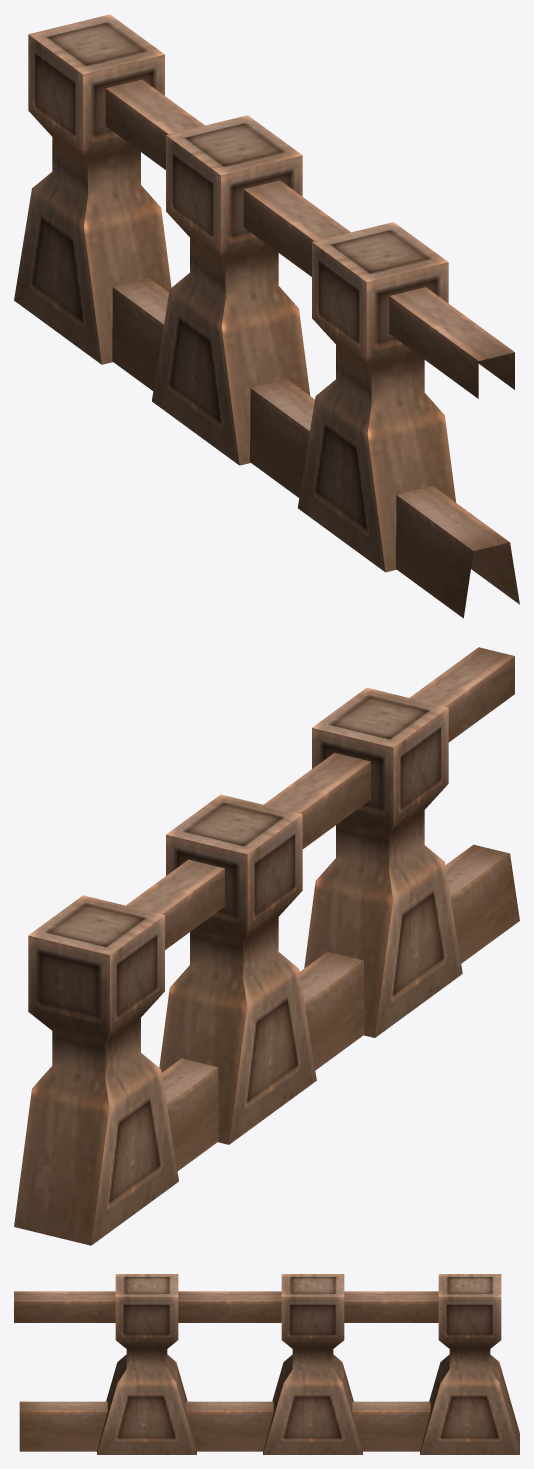
File: FB_ChengZhenMuqiao_Mutou.FBX
3 views of the same model, one above another, from view 1: azimuth 30°, elevation 25°; view 2: azimuth 150°, elevation 25°; view 3: azimuth 270°, elevation 25° (orthographic). The views are drawn at different scales.
Parts seen in each view (by area): view 1: Object02, Object03, Object04, Object11, Object10, Object07, Object06, Object09, Object08; view 2: Object04, Object03, Object02, Object11, Object07, Object06, Object10, Object09, Object08; view 3: Object04, Object02, Object03, Object11, Object07, Object09, Object06, Object10, Object08.
Boxes of the visible parts, x1,y1,x2,y2 form: Object02: [152, 115, 310, 465]; Object03: [297, 222, 456, 572]; Object04: [14, 14, 171, 364]; Object11: [396, 486, 519, 618]; Object10: [389, 287, 514, 398]; Object07: [250, 379, 314, 497]; Object06: [243, 180, 350, 276]; Object09: [112, 278, 168, 390]; Object08: [105, 79, 204, 169]; Object04: [14, 895, 178, 1245]; Object03: [304, 687, 462, 1037]; Object02: [159, 794, 316, 1144]; Object11: [445, 844, 519, 963]; Object07: [299, 951, 364, 1070]; Object06: [263, 752, 370, 848]; Object10: [410, 647, 514, 742]; Object09: [161, 1058, 218, 1170]; Object08: [126, 859, 224, 949]; Object04: [420, 1274, 519, 1454]; Object02: [263, 1274, 362, 1454]; Object03: [97, 1274, 196, 1454]; Object11: [19, 1401, 107, 1451]; Object07: [186, 1401, 273, 1451]; Object09: [352, 1401, 430, 1451]; Object06: [178, 1291, 281, 1322]; Object10: [14, 1291, 115, 1322]; Object08: [344, 1291, 438, 1322].
Bounding box in the file's own units: 0.5124 × 1.67 × 4.82.
